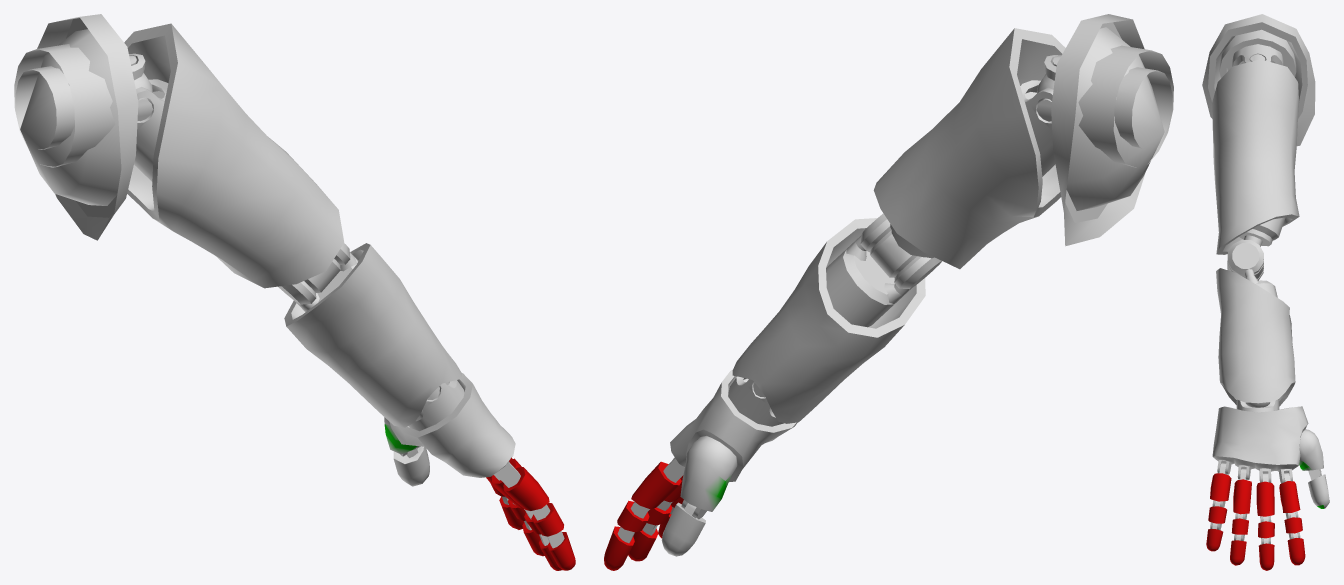
File: 3Dmodel_Body_WonderBody_Male_Normal_ArmRight.fbx
3 views of the same model, side by side, from view 1: azimuth 30°, elevation 25°; view 2: azimuth 150°, elevation 25°; view 3: azimuth 270°, elevation 25° (orthographic). The views are drawn at different scales.
Visible parts, largest first — view 1: Body_WonderBody_Male_Normal_ArmRight; view 2: Body_WonderBody_Male_Normal_ArmRight; view 3: Body_WonderBody_Male_Normal_ArmRight.
Part boxes in pixels (x1,y1,x2,y2): Body_WonderBody_Male_Normal_ArmRight: (14,14,575,570); Body_WonderBody_Male_Normal_ArmRight: (604,14,1173,570); Body_WonderBody_Male_Normal_ArmRight: (1202,14,1329,570).
Bounding box in the file's own units: 0.5714 × 0.1861 × 0.6643.
